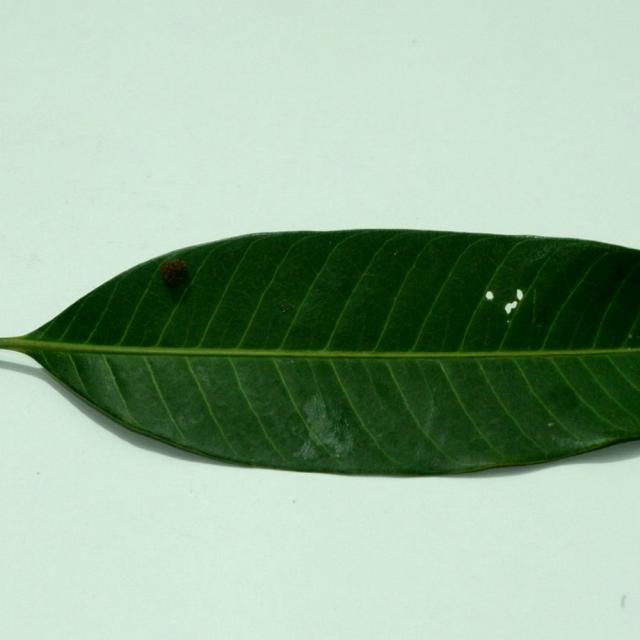Anthracnose: (474, 266, 532, 346)
Mango: (0, 230, 639, 480)
